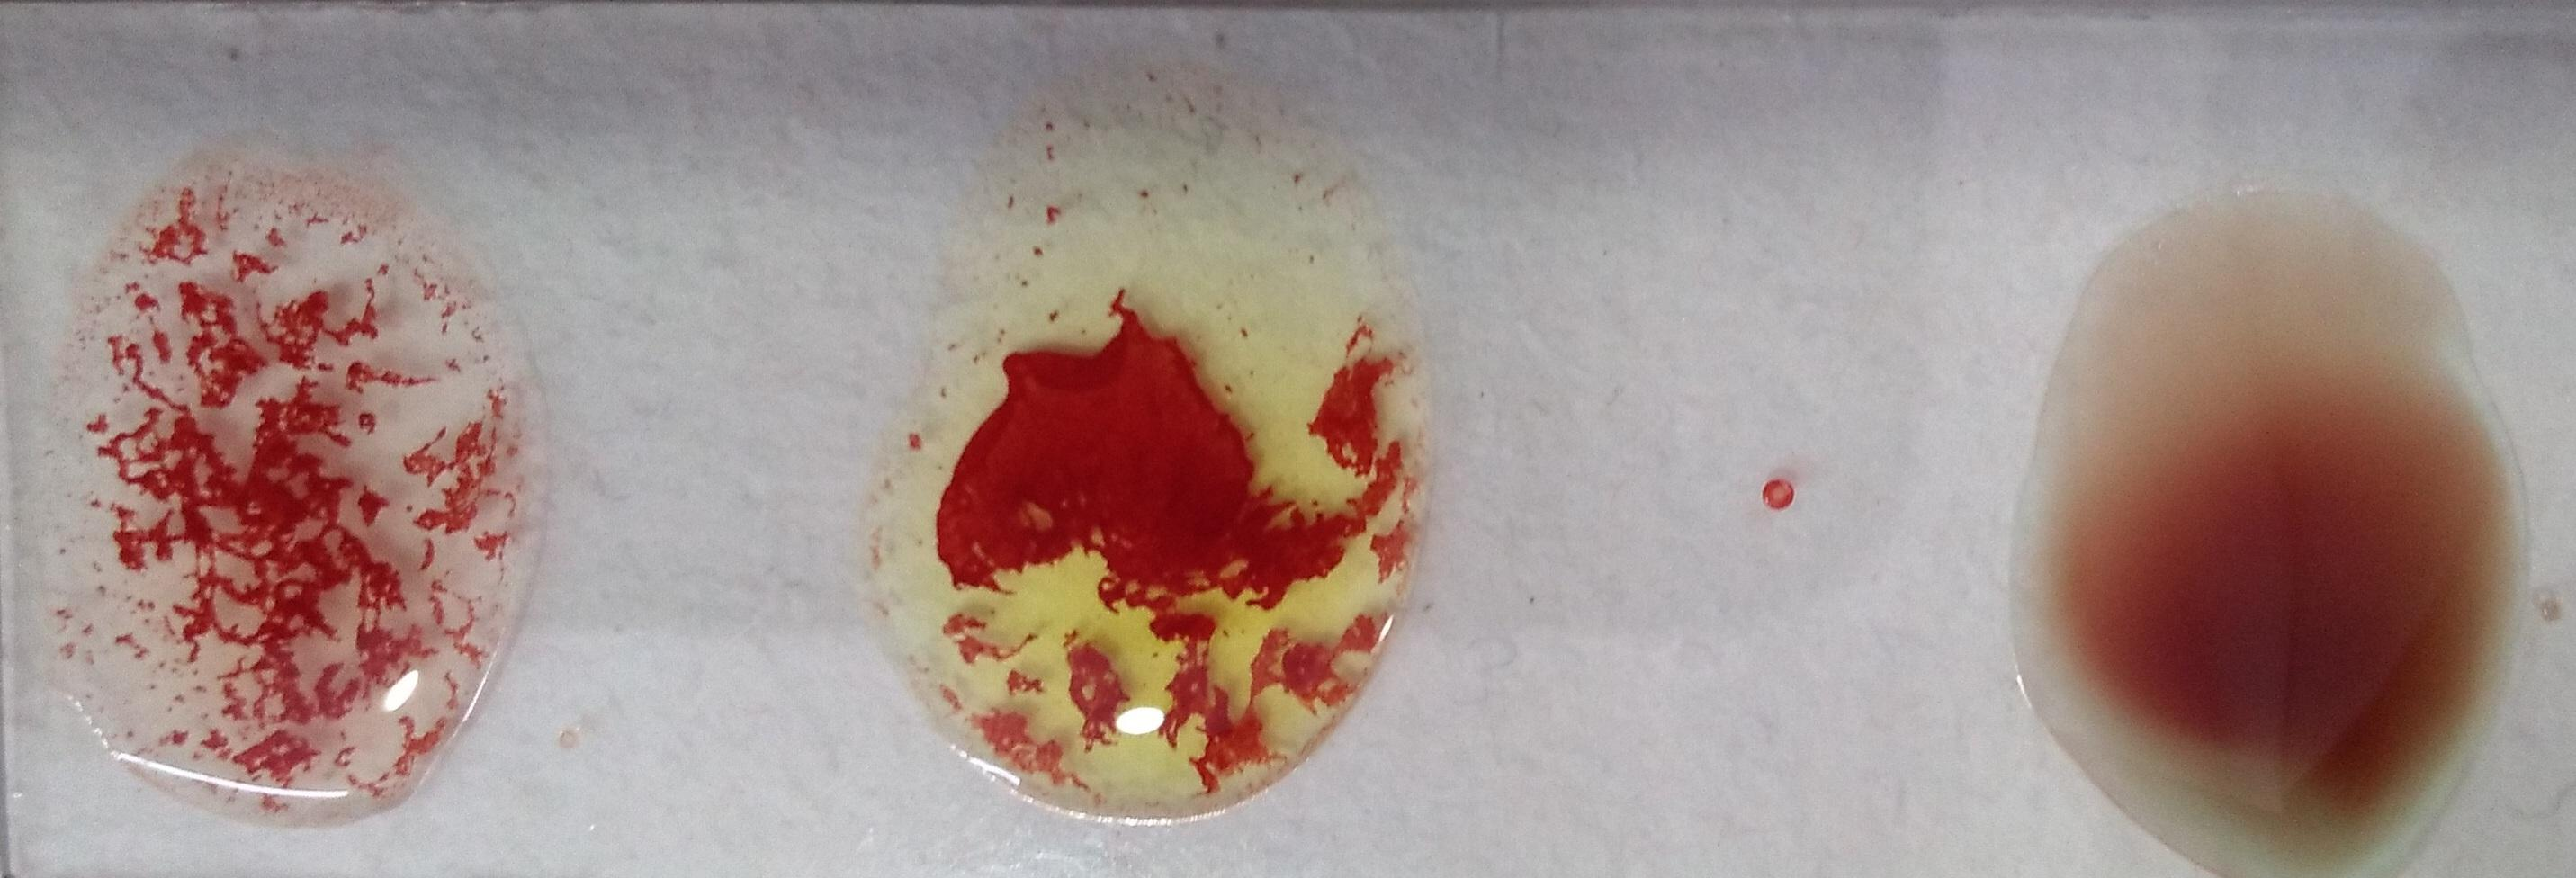B: (853, 100, 1434, 803)
D: (16, 149, 542, 844)
